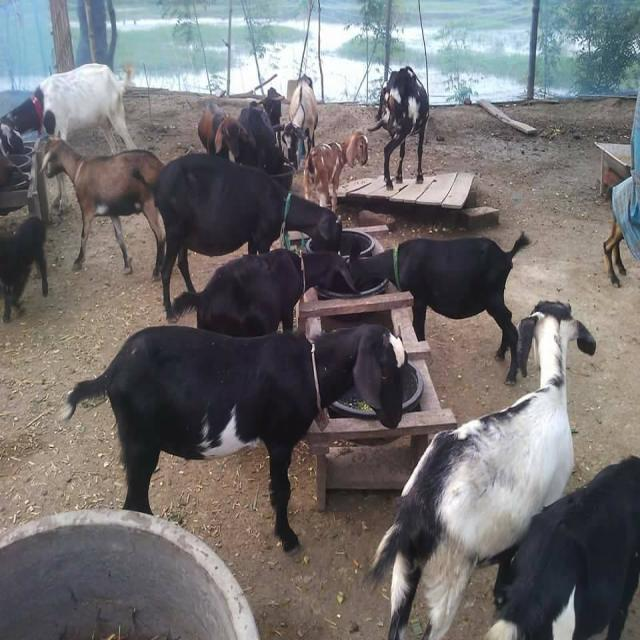Goat: (59, 321, 407, 554), (363, 298, 596, 638), (153, 150, 343, 320), (345, 228, 531, 385), (483, 454, 639, 639), (0, 60, 137, 214), (39, 132, 167, 280), (167, 247, 359, 336), (367, 65, 429, 189), (302, 130, 368, 213), (0, 214, 49, 323), (282, 75, 318, 169)
